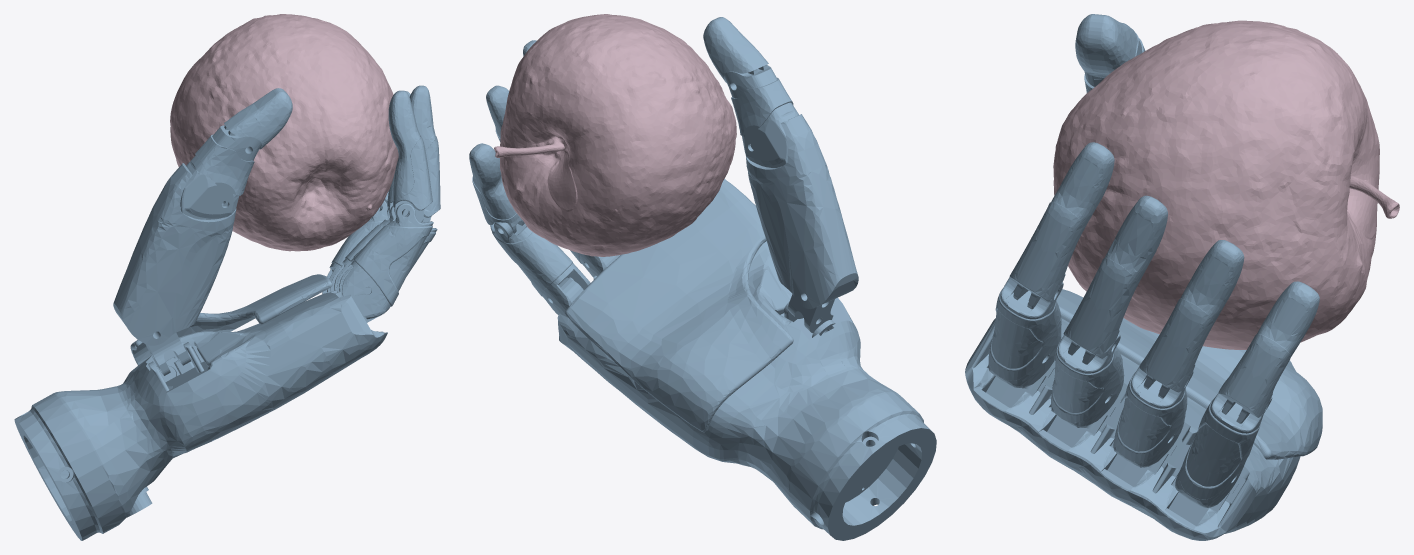
3 views of the same model, side by side, from view 1: azimuth 30°, elevation 25°; view 2: azimuth 150°, elevation 25°; view 3: azimuth 270°, elevation 25° (orthographic). The views are drawn at different scales.
Visible parts, largest first — view 1: world, obj_mesh_grasp_15.obj; view 2: world, obj_mesh_grasp_15.obj; view 3: world, obj_mesh_grasp_15.obj.
Boxes of the visible parts, x1,y1,x2,y2 form: world: (14,85,440,540); obj_mesh_grasp_15.obj: (170,14,398,251); world: (469,17,936,540); obj_mesh_grasp_15.obj: (494,14,736,256); world: (965,14,1322,540); obj_mesh_grasp_15.obj: (1053,20,1399,349).
Bounding box in the file's own units: 0.1708 × 0.1815 × 0.1113.
